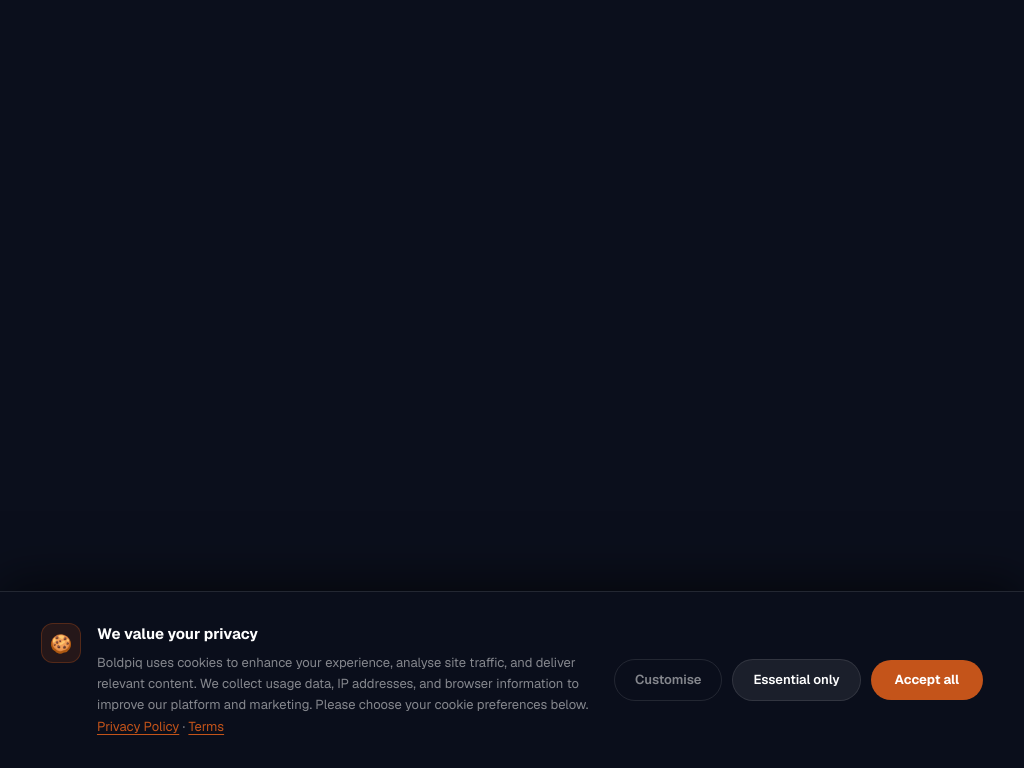
Test: CookieConsent › Customise panel › navigates back from customise panel
The width and height of the screenshot is (1024, 768).
Click the button "Customise" at (668, 680), box [614, 659, 722, 701]
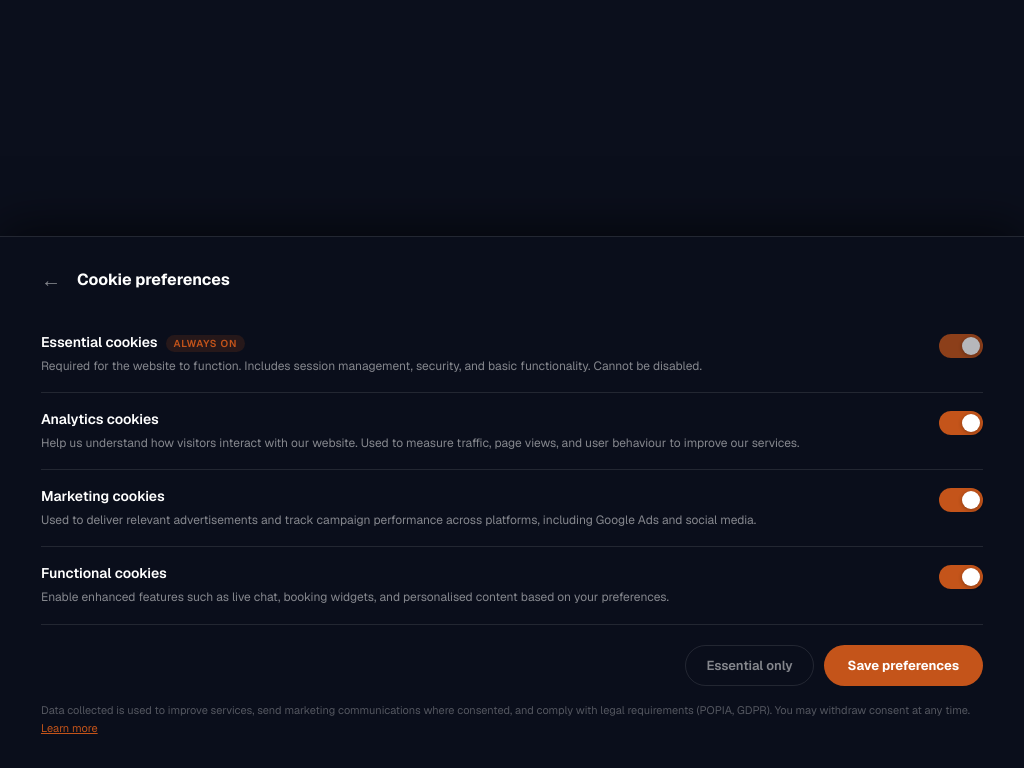
Click the button named "Back" at (51, 280), box [41, 270, 61, 290]
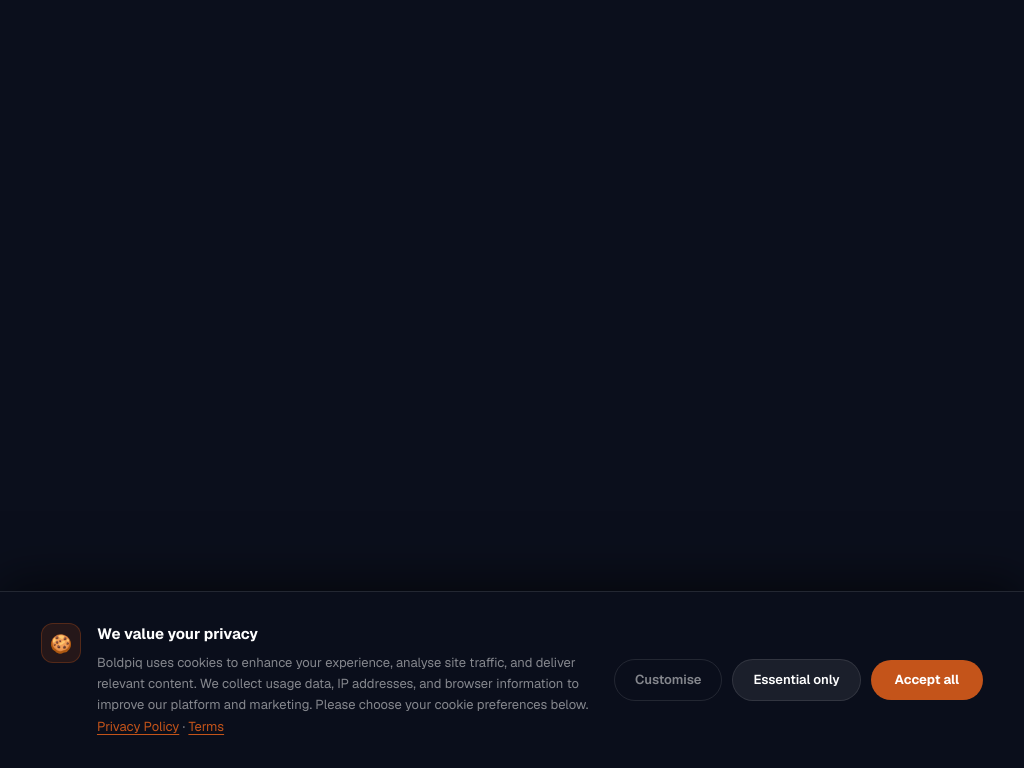
Check: the text "We value your privacy" is shown, box [97, 624, 258, 643]
